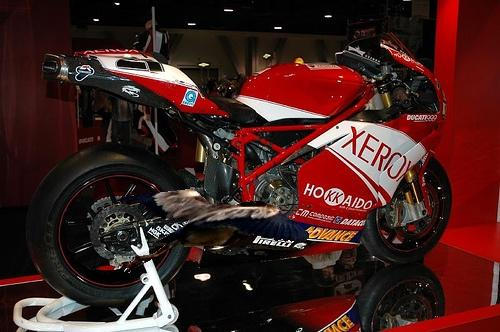tampered: (118, 190, 309, 273)
